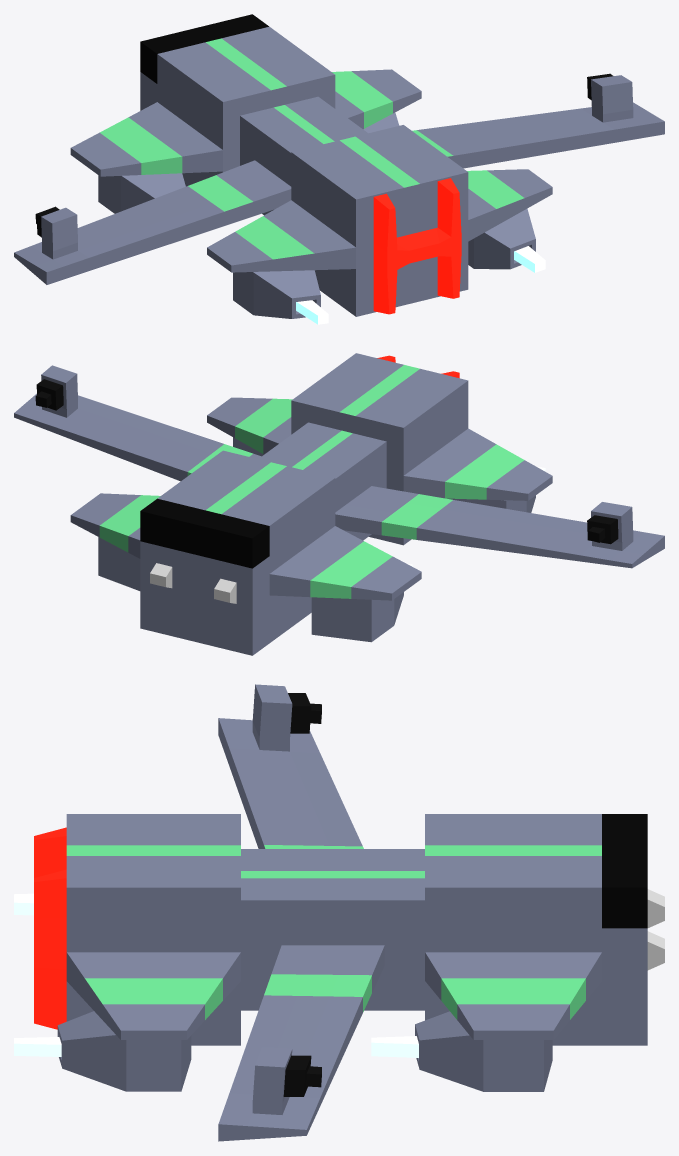
Rendered from Spaceship2.fbx.
3 views of the same model, one above another, from view 1: azimuth 30°, elevation 25°; view 2: azimuth 150°, elevation 25°; view 3: azimuth 270°, elevation 25° (orthographic). The views are drawn at different scales.
Visible parts, largest first — view 1: Cube; view 2: Cube; view 3: Cube.
Part boxes in pixels (x1,y1,x2,y2): Cube: [14, 14, 664, 324]; Cube: [14, 353, 664, 655]; Cube: [14, 684, 664, 1141].
Size of the model in its own units: 559 by 101 by 379.
